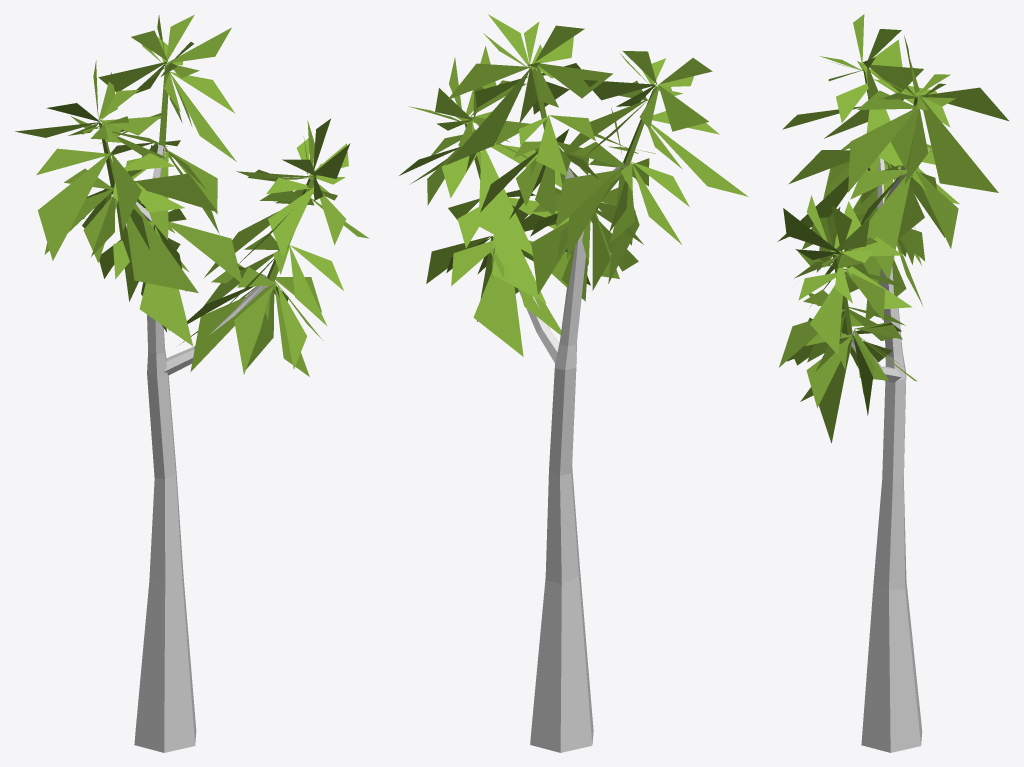
Rendered from SM_Tree_Baobab_Sapling_A.fbx.
3 renders of one model, left to right at view 1: azimuth 30°, elevation 25°; view 2: azimuth 150°, elevation 25°; view 3: azimuth 270°, elevation 25°, orthographic. The views are drawn at different scales.
Visible parts, largest first — view 1: tree-baobab-sapling-a; view 2: tree-baobab-sapling-a; view 3: tree-baobab-sapling-a.
Part boxes in pixels (x1=…): tree-baobab-sapling-a: x1=15, y1=15, x2=368, y2=752; tree-baobab-sapling-a: x1=399, y1=14, x2=748, y2=752; tree-baobab-sapling-a: x1=777, y1=14, x2=1008, y2=752.
Bounding box in the file's own units: 0.7578 × 1.57 × 0.4788.
